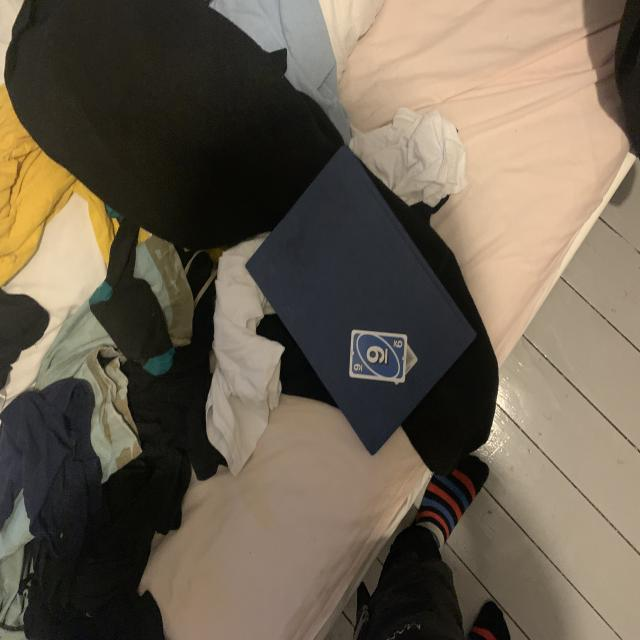lblue-9: (392, 339, 403, 350)
